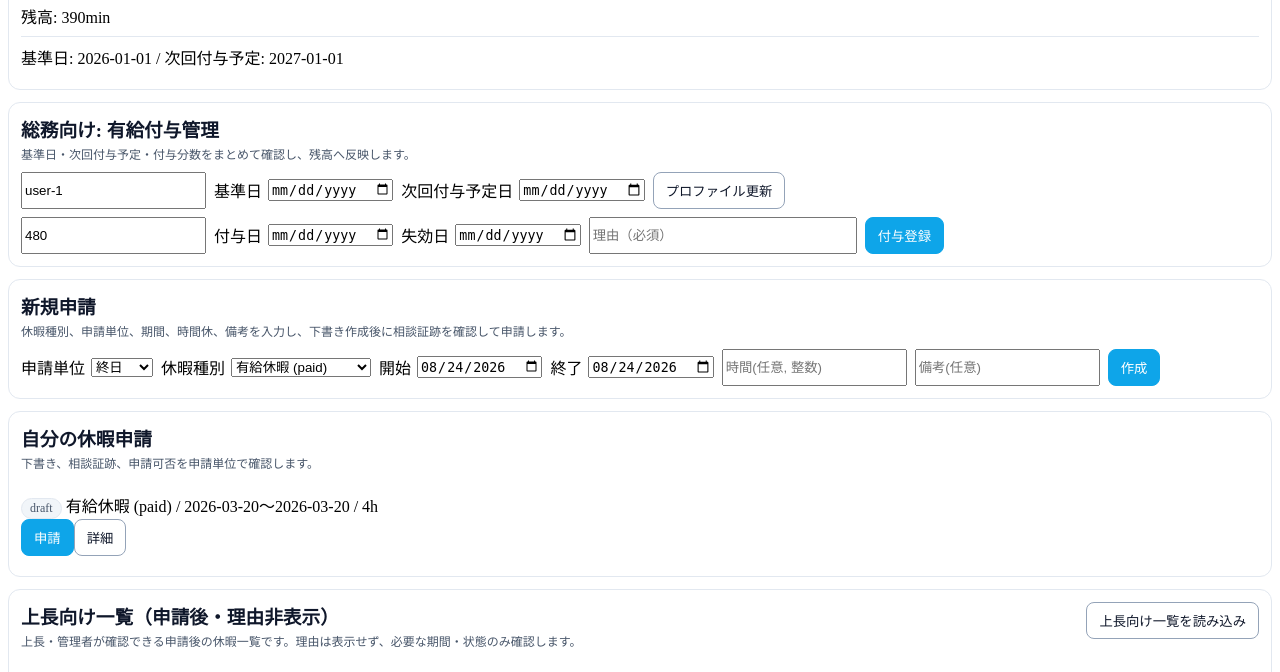
it: LeaveRequests › creates a leave request and prepends it to the list
(page scrolled)
In the number field named "休暇時間(任意)": {"x": 814, "y": 367} [722,349,907,386], type "8"
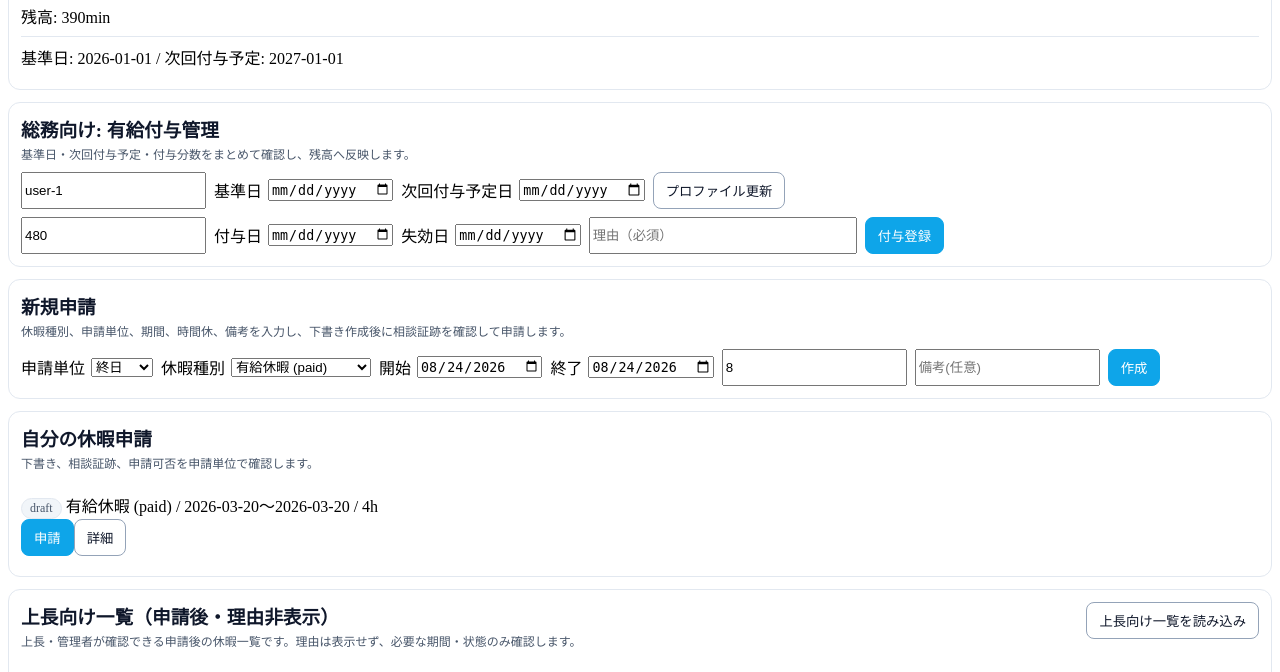
In the field labelled "備考(任意)": {"x": 1007, "y": 367} [915,349,1100,386], type "created"
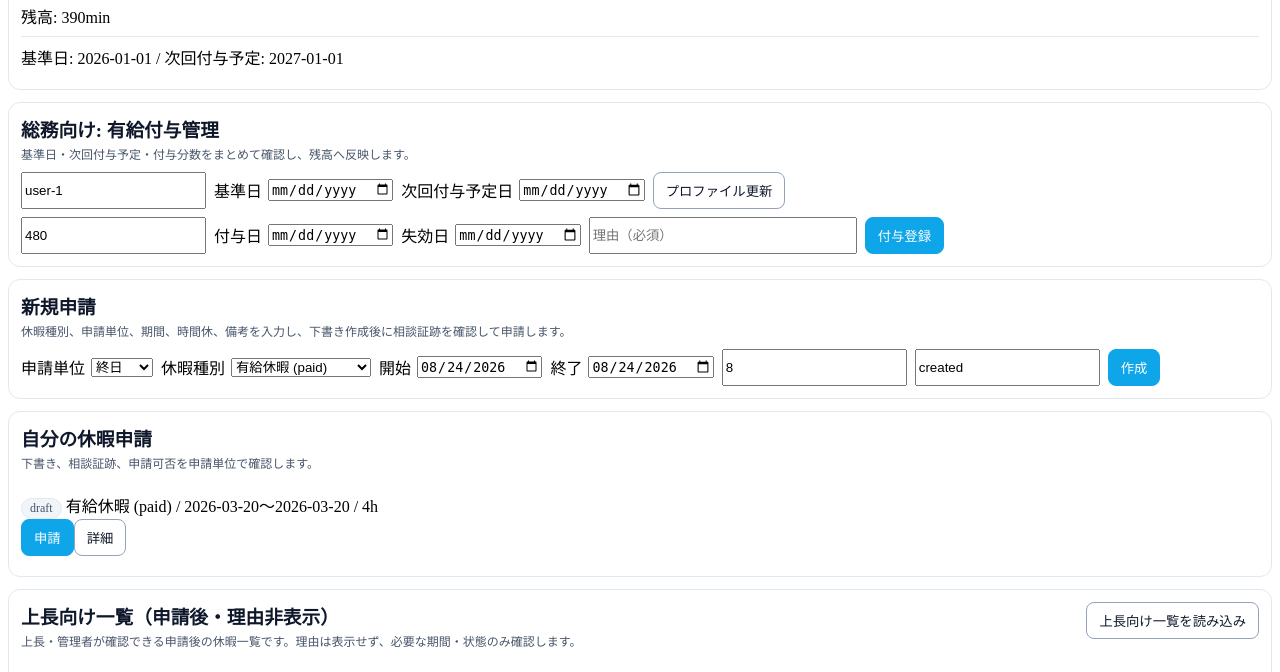
Click the button "作成": {"x": 1134, "y": 367} [1108,349,1160,386]
(page scrolled)
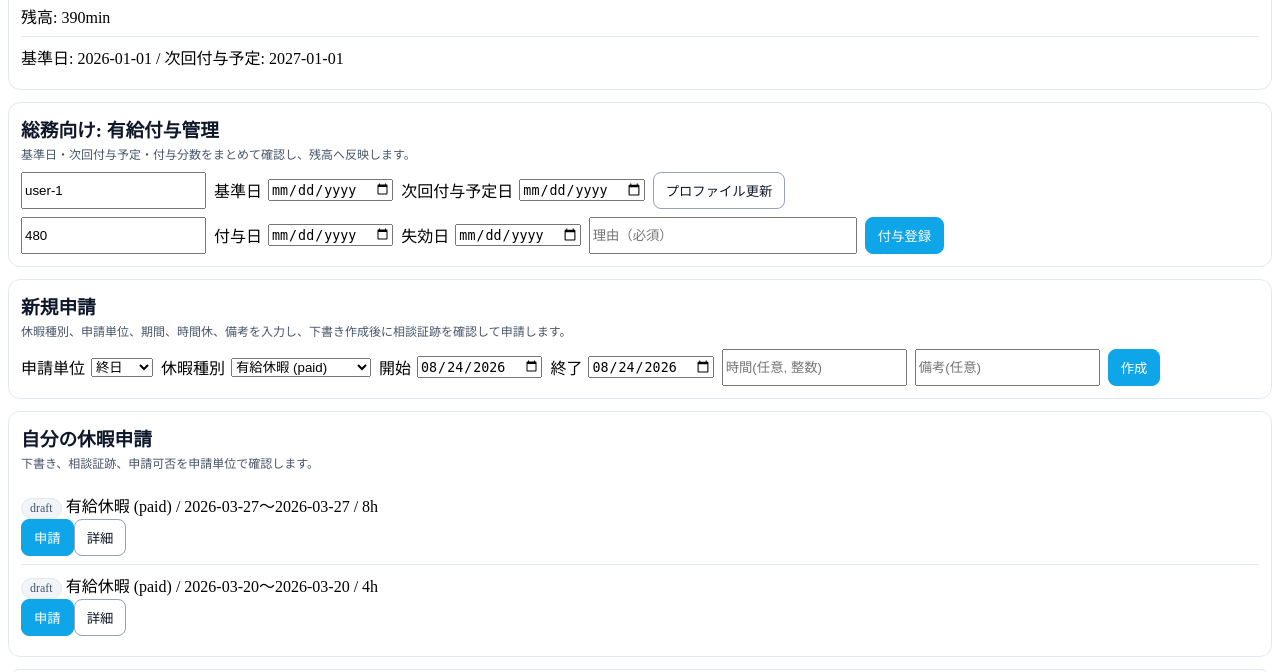
Expected: the list item "draft 有給休暇 (paid) / 2026-03-20〜2026-03-20 / 4h 申請 詳細" is shown, [21,578,378,636]
Expected: the list item "draft 有給休暇 (paid) / 2026-03-27〜2026-03-27 / 8h 申請 詳細" is shown, [21,485,1259,565]
